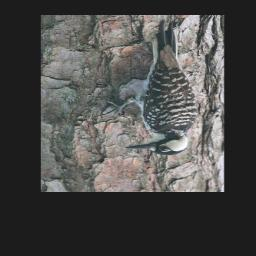Woodpecker: (96, 20, 203, 156)
